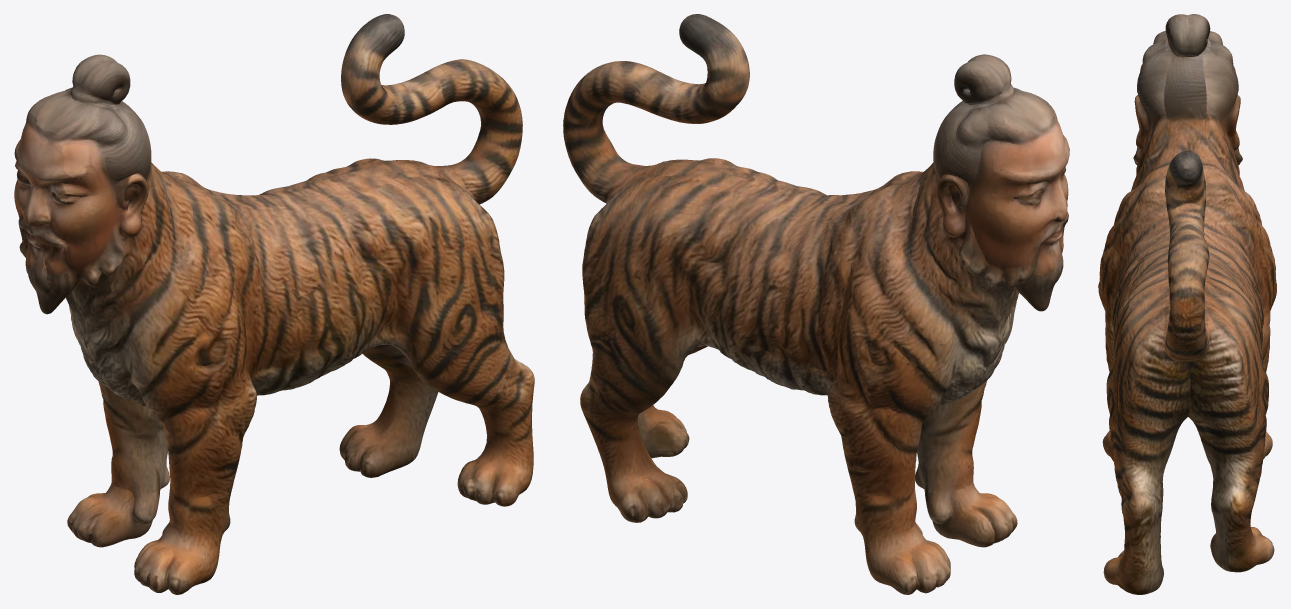
File: mofu.glb
3 renders of one model, left to right at view 1: azimuth 30°, elevation 25°; view 2: azimuth 150°, elevation 25°; view 3: azimuth 270°, elevation 25°, orthographic. The views are drawn at different scales.
Parts seen in each view (by area): view 1: geometry_0; view 2: geometry_0; view 3: geometry_0.
Boxes of the visible parts, x1,y1,x2,y2 form: geometry_0: (14, 14, 534, 594); geometry_0: (563, 14, 1069, 594); geometry_0: (1098, 14, 1276, 594).
Size of the model in its own units: 0.45 by 0.4425 by 0.168.
1 material, 1 textured.
